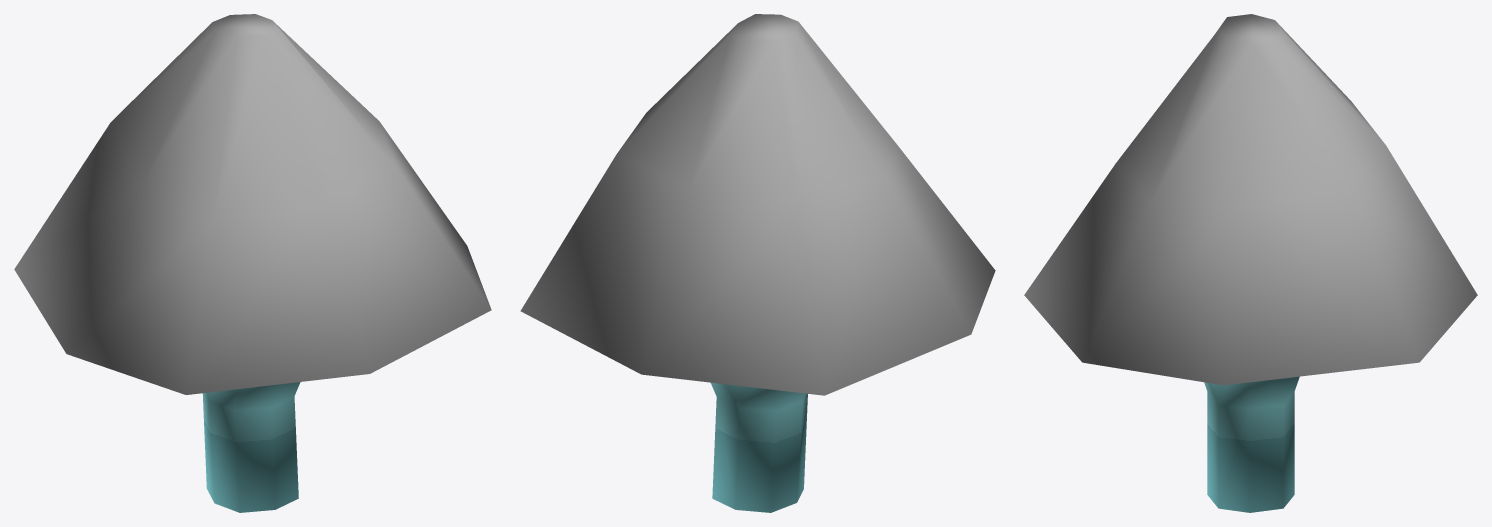
Rendered from DC_Mushroom1.fbx.
3 views of the same model, side by side, from view 1: azimuth 30°, elevation 25°; view 2: azimuth 150°, elevation 25°; view 3: azimuth 270°, elevation 25° (orthographic).
Visible parts, largest first — view 1: Mushroom1; view 2: Mushroom1; view 3: Mushroom1.
Part boxes in pixels (x1,y1,x2,y2): Mushroom1: [14, 14, 491, 512]; Mushroom1: [520, 14, 995, 512]; Mushroom1: [1024, 14, 1477, 512].
Bounding box in the file's own units: 0.4122 × 0.4643 × 0.4116.
2 materials, 1 textured.
